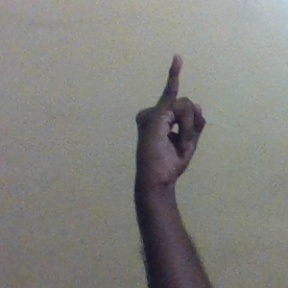I: (137, 53, 205, 180)
